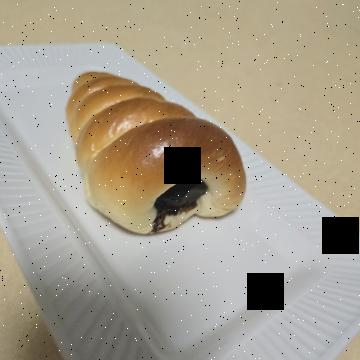cream horn: (54, 103, 258, 300)
